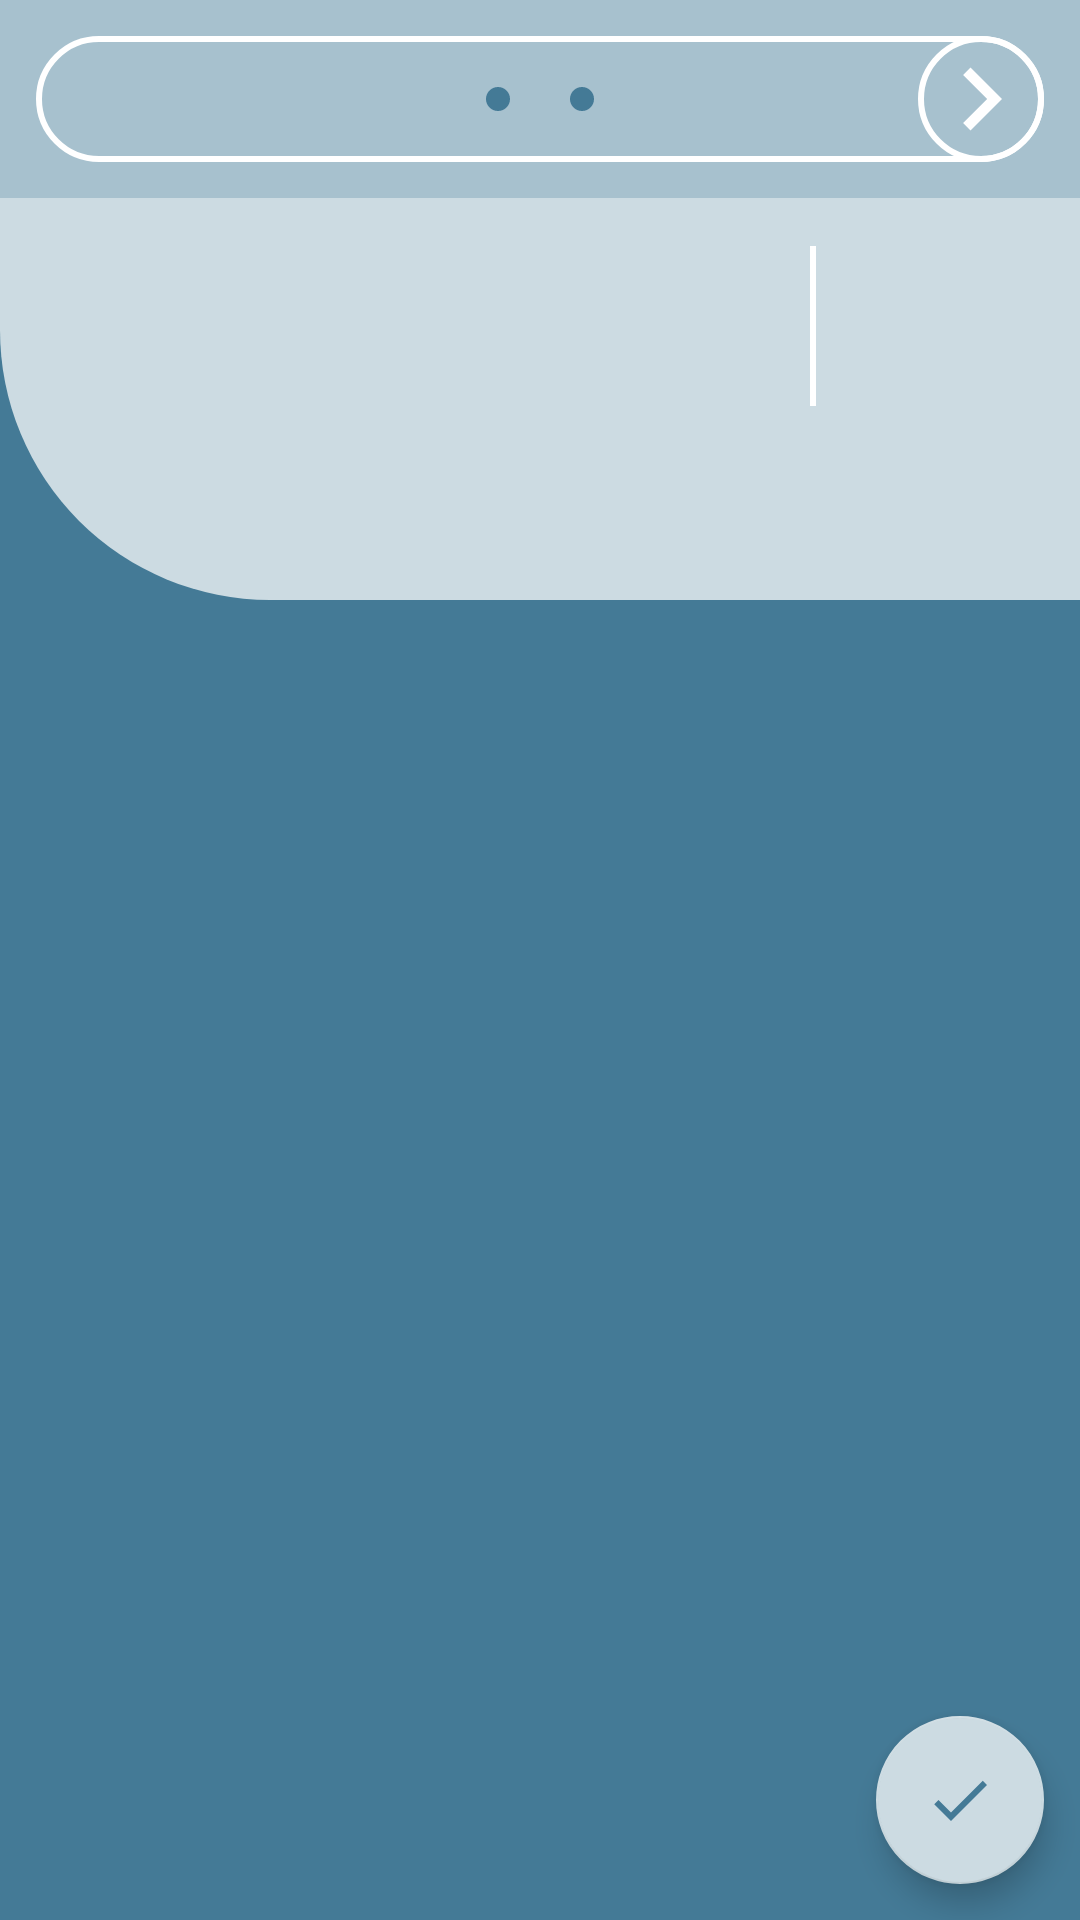

Icons on this 1080*1920 Android screen, each with its box as (x1, y1, x2, y2):
check: (876, 1716, 1044, 1884)
right: (918, 36, 1044, 162)
